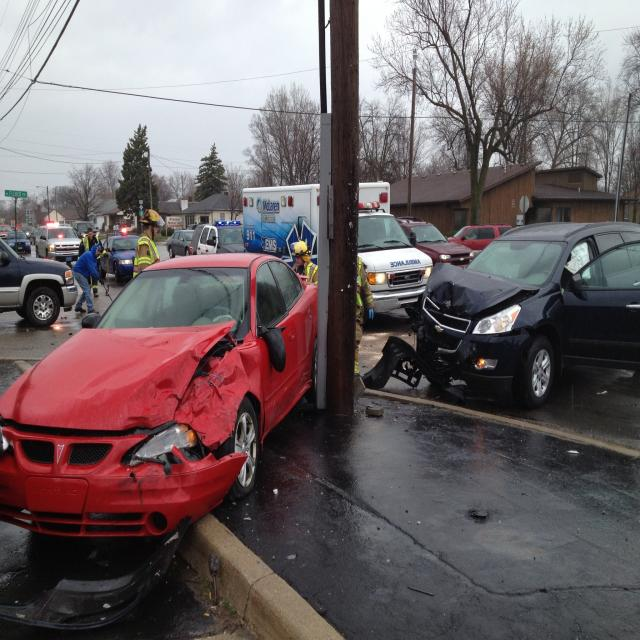crush: (0, 320, 287, 631), (362, 261, 540, 401)
